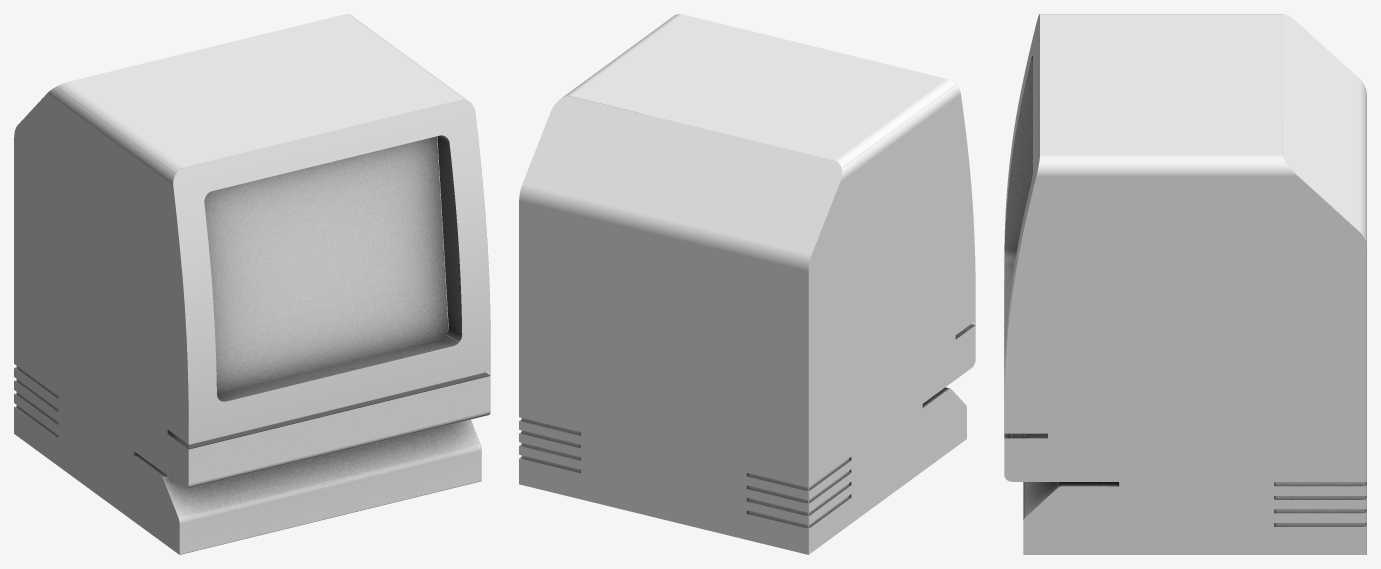
File: computer2.glb
3 renders of one model, left to right at view 1: azimuth 30°, elevation 25°; view 2: azimuth 150°, elevation 25°; view 3: azimuth 270°, elevation 25°, orthographic. The views are drawn at different scales.
Parts seen in each view (by area): view 1: body, strip; view 2: body; view 3: body.
Part boxes in pixels (x1,y1,x2,y2): body: (14,14,490,554); strip: (168,371,490,448); body: (519,14,975,554); body: (1004,14,1366,554).
Size of the model in its own units: 1 by 1.2 by 1.
2 materials, 1 textured.
